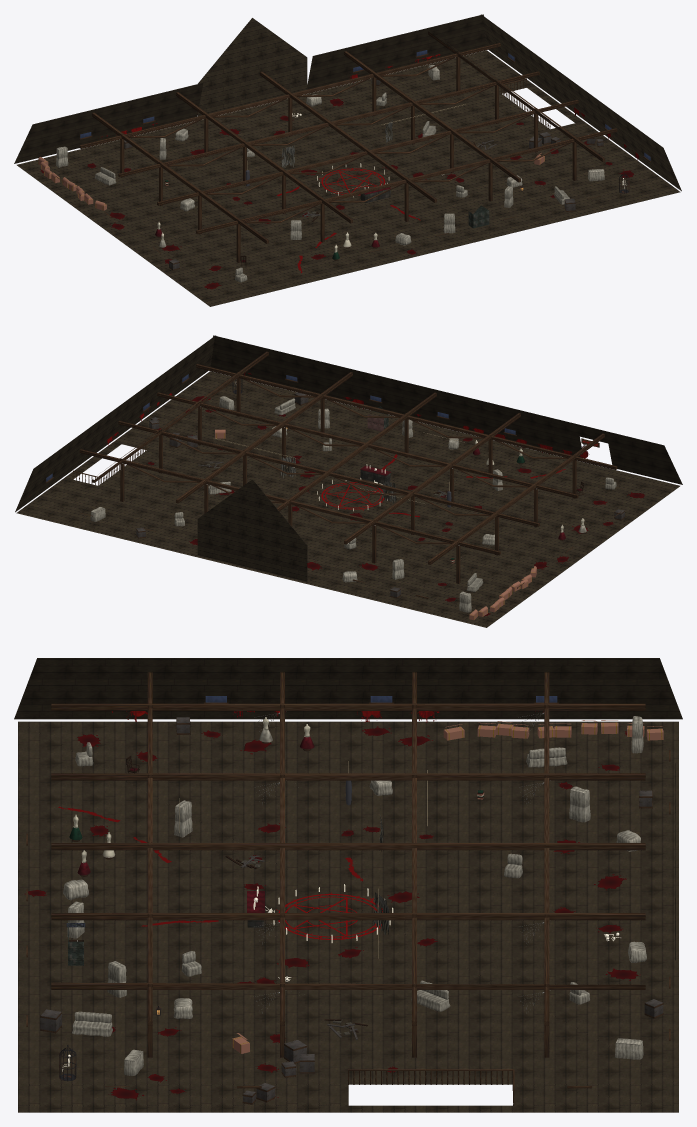
File: house_attic_v13.glb
The picture shows the model from 3 angles, top to bottom: view 1: azimuth 30°, elevation 25°; view 2: azimuth 150°, elevation 25°; view 3: azimuth 270°, elevation 25°; orthographic projection. The views are drawn at different scales.
Parts seen in each view (by area): view 1: house_attic; view 2: house_attic; view 3: house_attic.
Part boxes in pixels (x1,y1,x2,y2): house_attic: [14, 14, 681, 306]; house_attic: [15, 335, 682, 627]; house_attic: [14, 658, 682, 1112].
Size of the model in its own units: 56.5 by 10.67 by 40.5.
45 materials, 35 textured.
